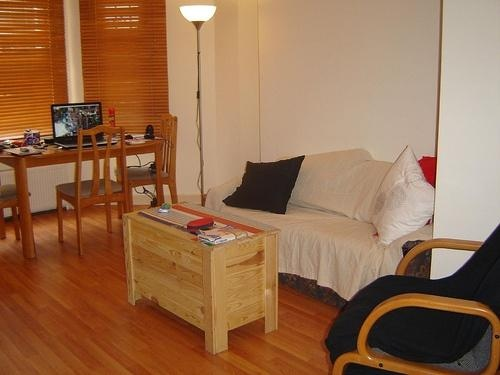chair: (330, 223, 500, 375), (59, 122, 131, 255), (117, 114, 180, 219), (1, 184, 33, 245)
diningtable: (1, 128, 166, 261)
sofa: (203, 151, 436, 308)
